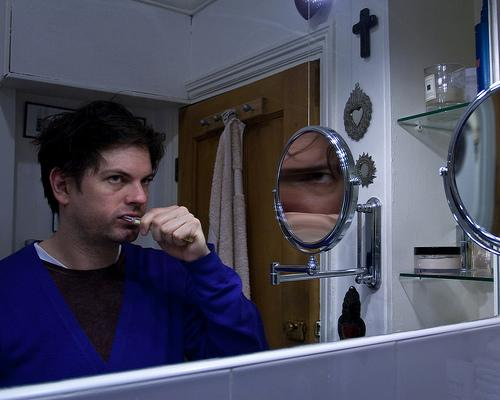person: (1, 101, 274, 393)
